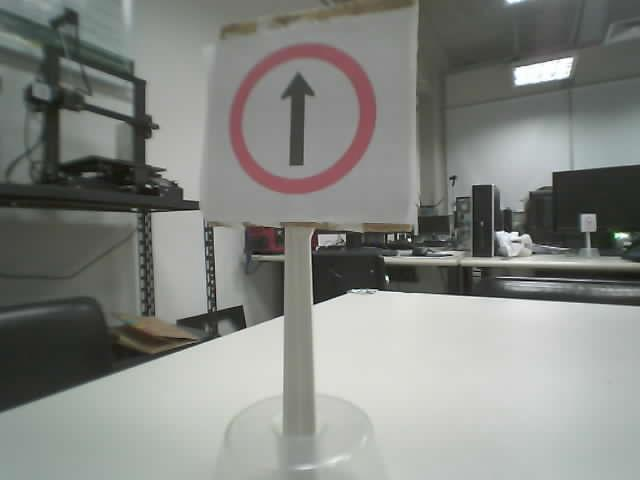R-26_frente: (228, 41, 376, 195)
